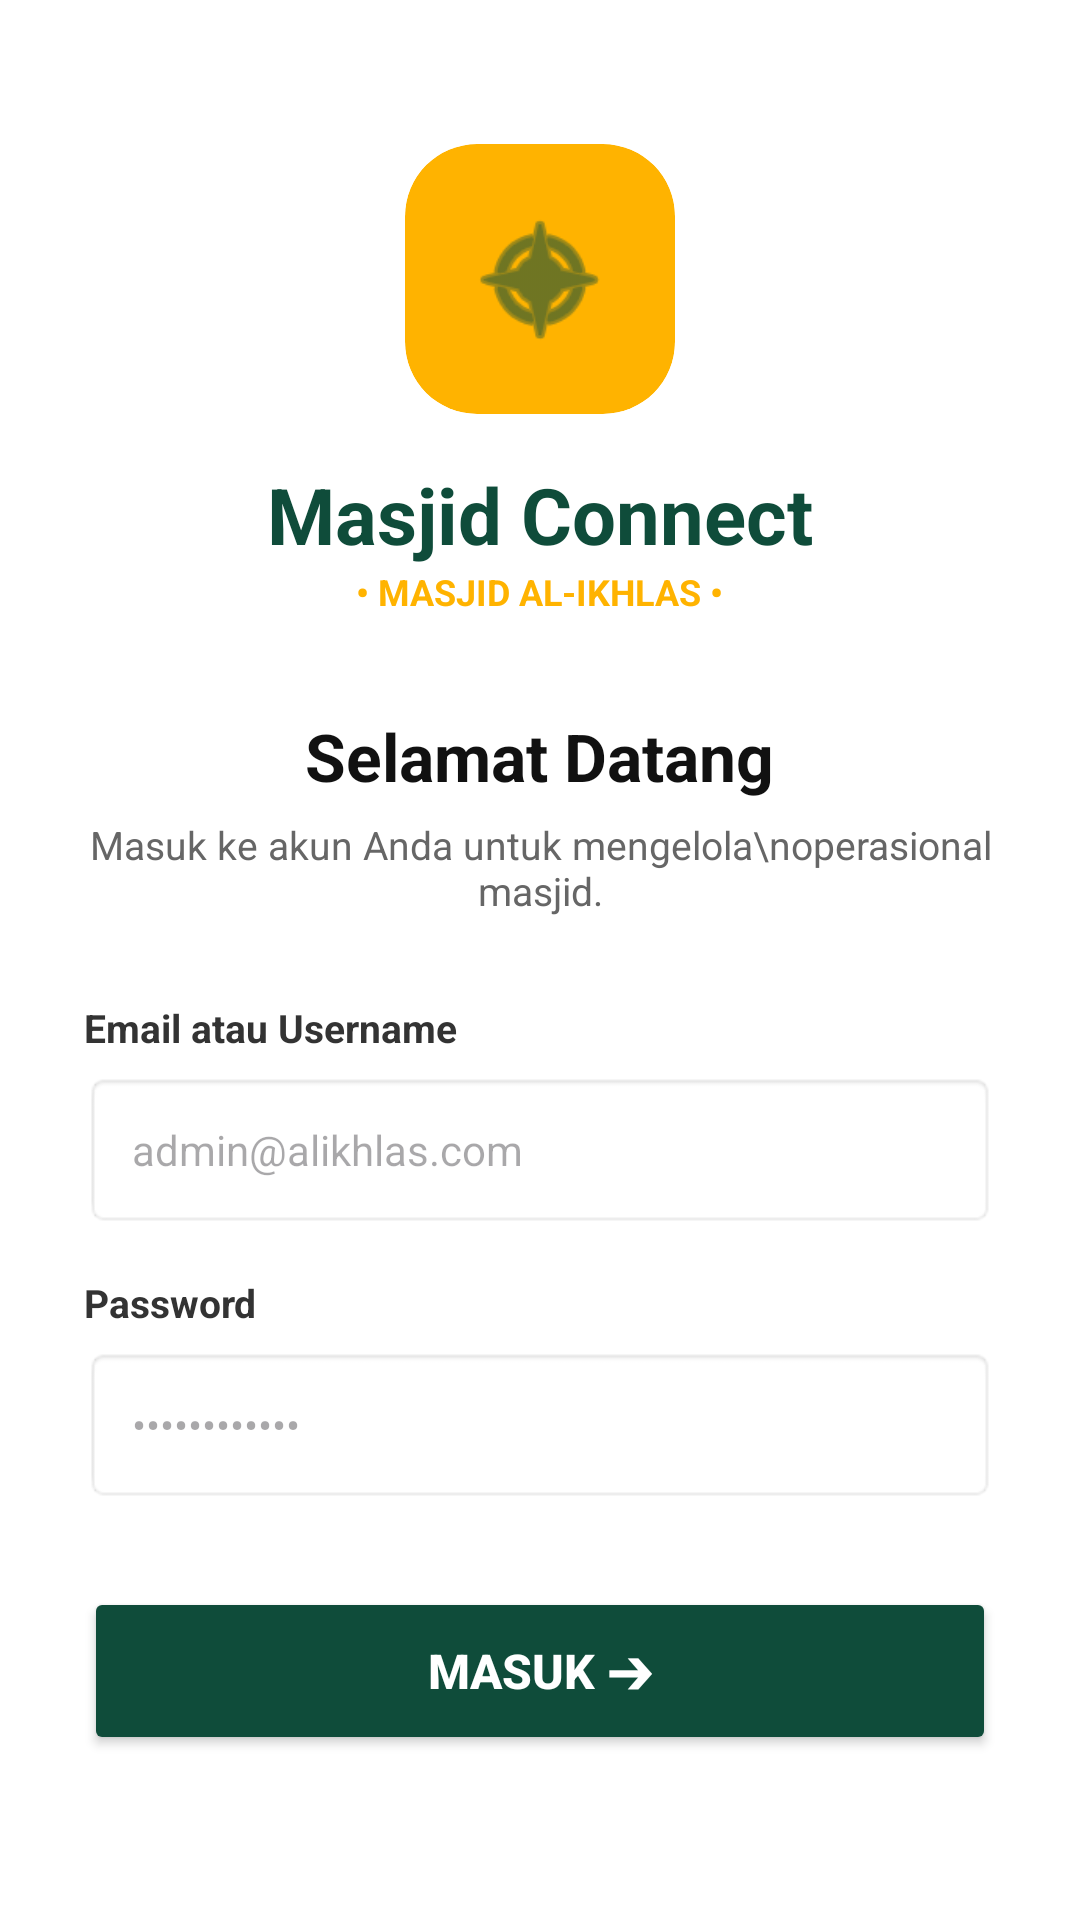

Named icons in this screenshot (1080px×1920px) and their bounding boxes, [x1, y1, x2, y2]:
compass: [480, 221, 599, 339]
